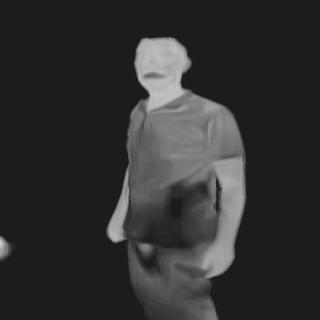Gun: (168, 180, 209, 221)
